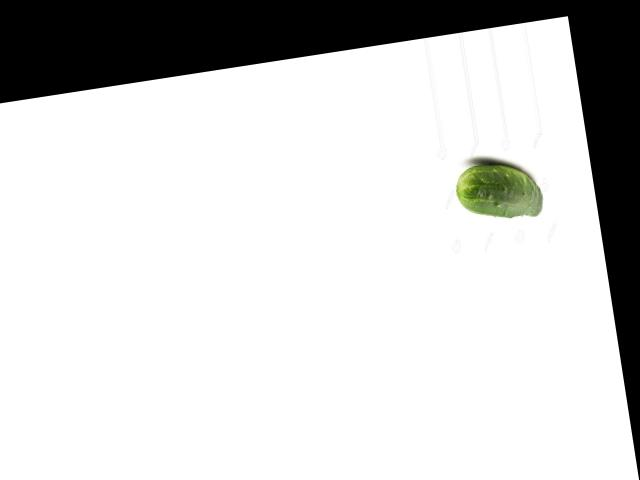cucumber: (452, 155, 545, 227)
